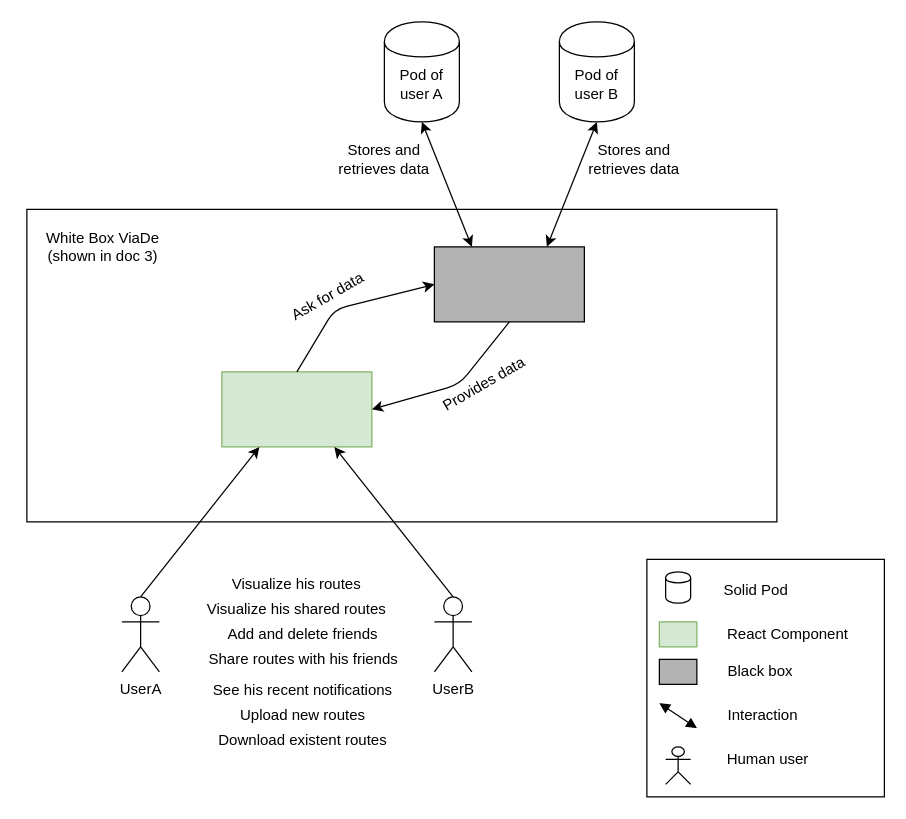
The diagram is 906 pixels wide and 819 high, and some of its shapes have lost their labels. Each missing label, with the box of its shape:
Interface: (221, 371, 372, 447)
Services: (433, 246, 584, 322)
